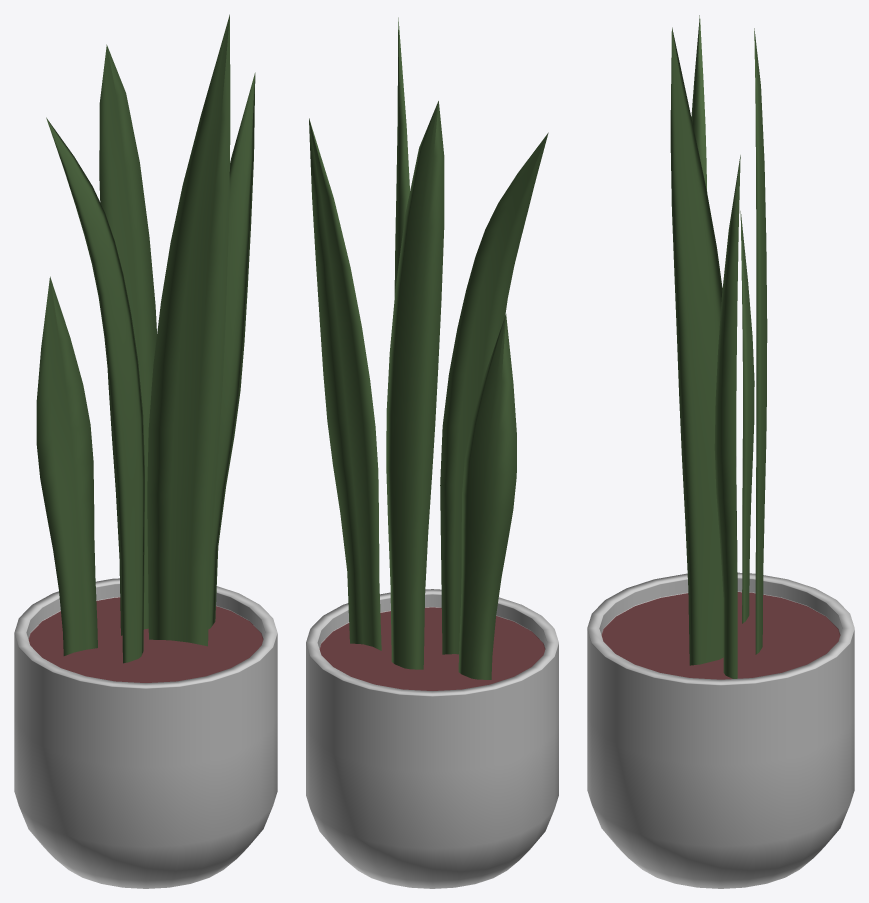
The model's file is flower_2.fbx.
The picture shows the model from 3 angles, left to right: view 1: azimuth 30°, elevation 25°; view 2: azimuth 150°, elevation 25°; view 3: azimuth 270°, elevation 25°; orthographic projection. The views are drawn at different scales.
Visible parts, largest first — view 1: 01; view 2: 01; view 3: 01.
Part boxes in pixels (x1=…): 01: x1=14, y1=14, x2=277, y2=888; 01: x1=306, y1=17, x2=558, y2=888; 01: x1=587, y1=15, x2=854, y2=888.
Bounding box in the file's own units: 84.09 × 290 × 82.27.
